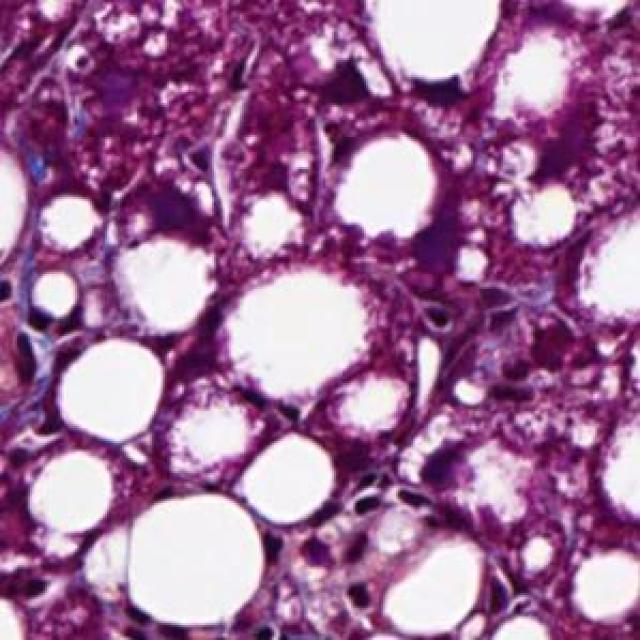inflammation: (0, 269, 66, 396), (306, 475, 437, 533), (416, 280, 524, 349)
